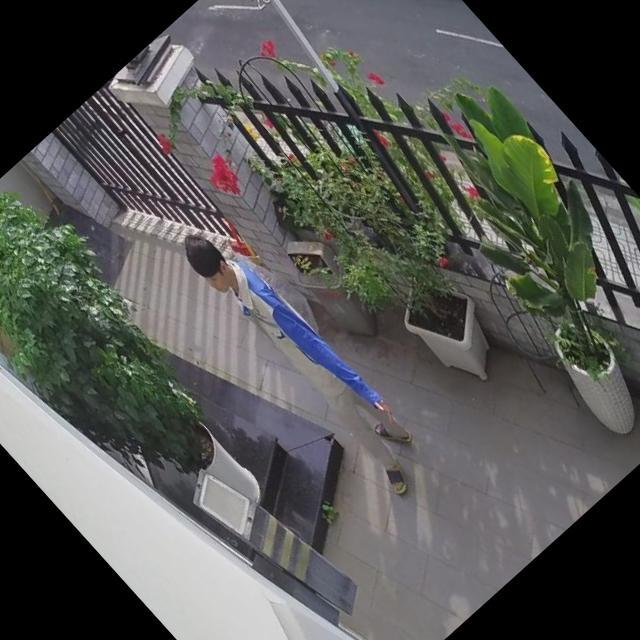person: (173, 210, 438, 496)
